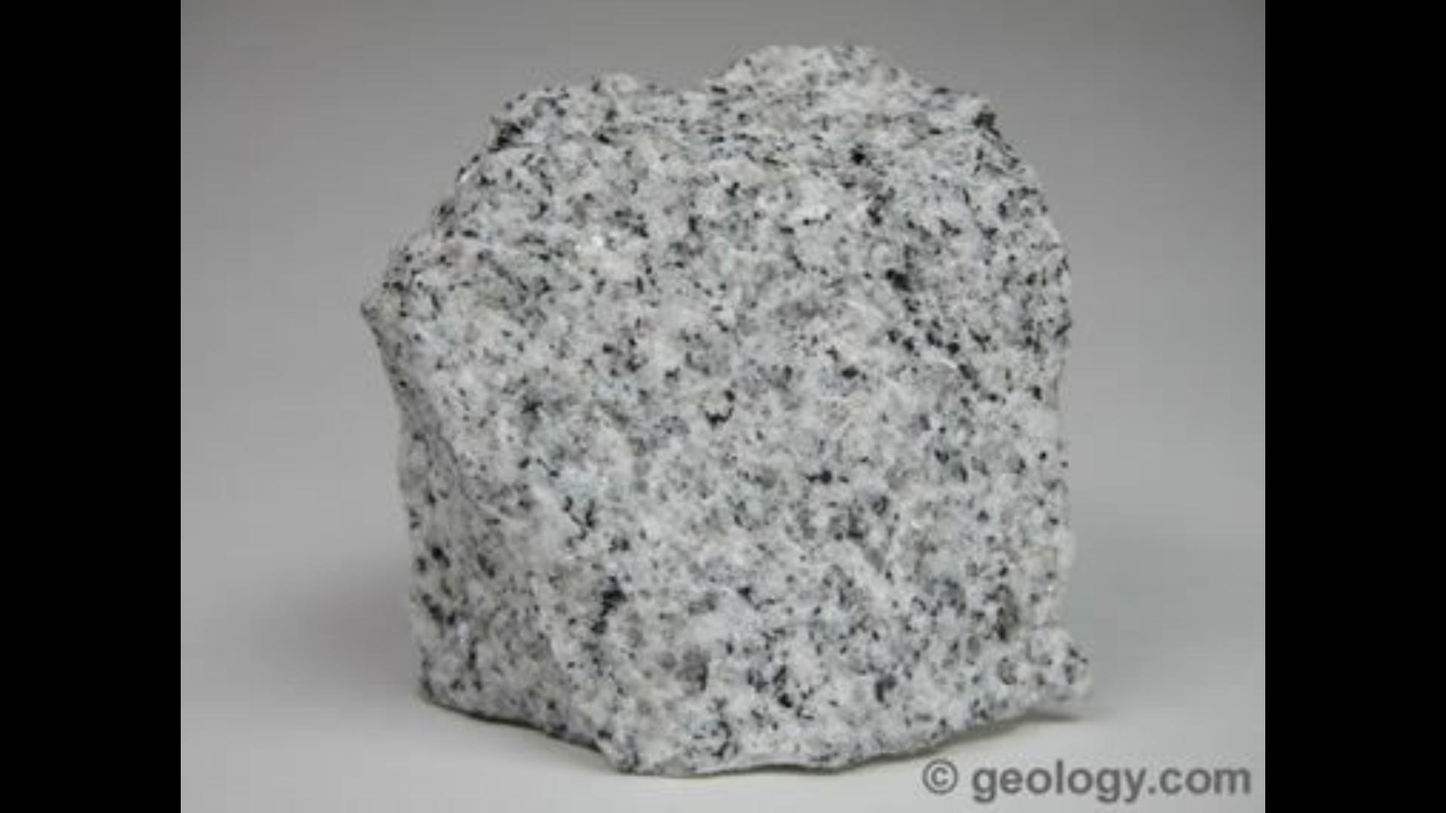rock: (366, 46, 1083, 770)
